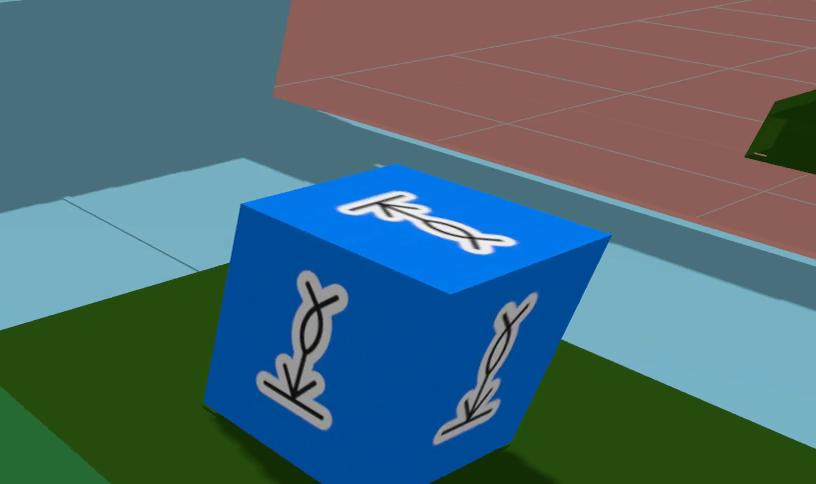KFS_REAL: (203, 165, 609, 484), (256, 270, 348, 430), (336, 192, 517, 254)
